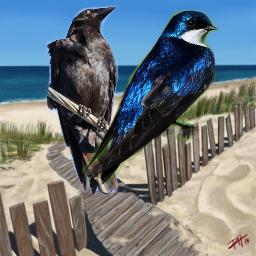Crow: (46, 4, 119, 195)
Swallow: (82, 10, 219, 185)
